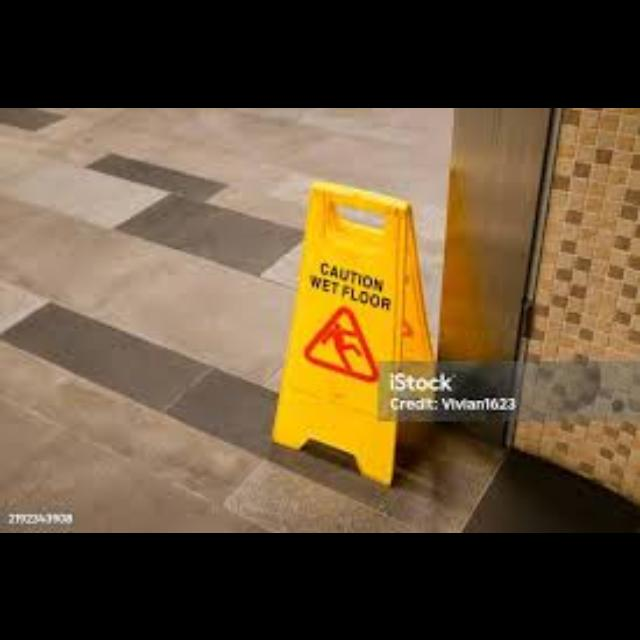slippery_floor: (270, 181, 433, 484)
